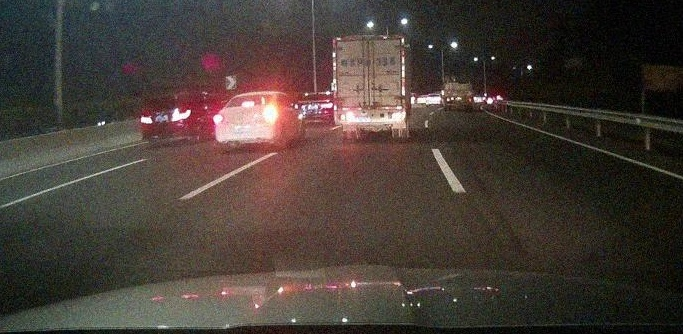L_light: (213, 113, 227, 123), (140, 115, 153, 124), (339, 113, 353, 120)
R_light: (170, 111, 191, 122), (262, 110, 280, 121), (389, 112, 404, 120)
T_light: (240, 101, 255, 107), (362, 39, 374, 44), (165, 97, 178, 101)
night-no: (332, 34, 407, 142), (139, 95, 196, 144)
night-right: (212, 91, 282, 150)
